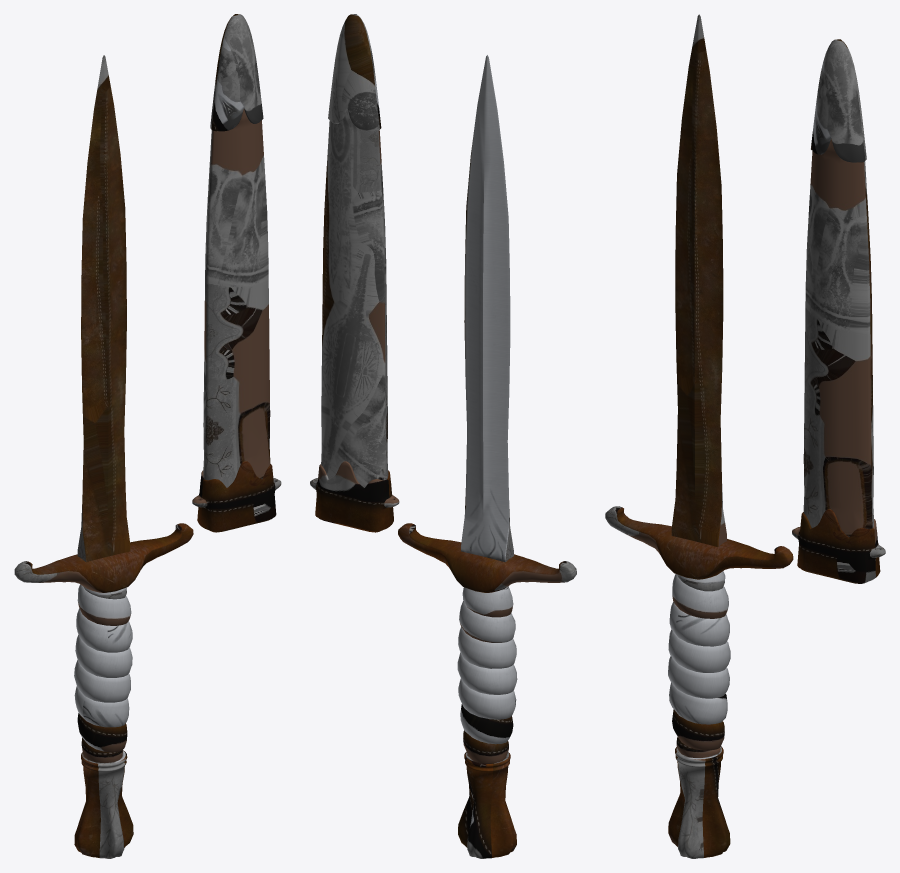
File: ornate_medieval_dagger.obj
The picture shows the model from 3 angles, left to right: view 1: azimuth 30°, elevation 25°; view 2: azimuth 150°, elevation 25°; view 3: azimuth 330°, elevation 25°; orthographic projection. The views are drawn at different scales.
Visible parts, largest first — view 1: ornate_medieval_dagger_ornate_medieval_dagger_0, ornate_medieval_dagger_ornate_medieval_dagger_scabbard_0; view 2: ornate_medieval_dagger_ornate_medieval_dagger_0, ornate_medieval_dagger_ornate_medieval_dagger_scabbard_0; view 3: ornate_medieval_dagger_ornate_medieval_dagger_0, ornate_medieval_dagger_ornate_medieval_dagger_scabbard_0.
Boxes of the visible parts, x1,y1,x2,y2 form: ornate_medieval_dagger_ornate_medieval_dagger_0: [14, 55, 193, 858]; ornate_medieval_dagger_ornate_medieval_dagger_scabbard_0: [192, 14, 281, 532]; ornate_medieval_dagger_ornate_medieval_dagger_0: [398, 55, 576, 858]; ornate_medieval_dagger_ornate_medieval_dagger_scabbard_0: [310, 14, 399, 532]; ornate_medieval_dagger_ornate_medieval_dagger_0: [605, 14, 793, 858]; ornate_medieval_dagger_ornate_medieval_dagger_scabbard_0: [792, 39, 885, 583].
Size of the model in its own units: 0.1201 by 0.3489 by 0.025.
1 material, 1 textured.
